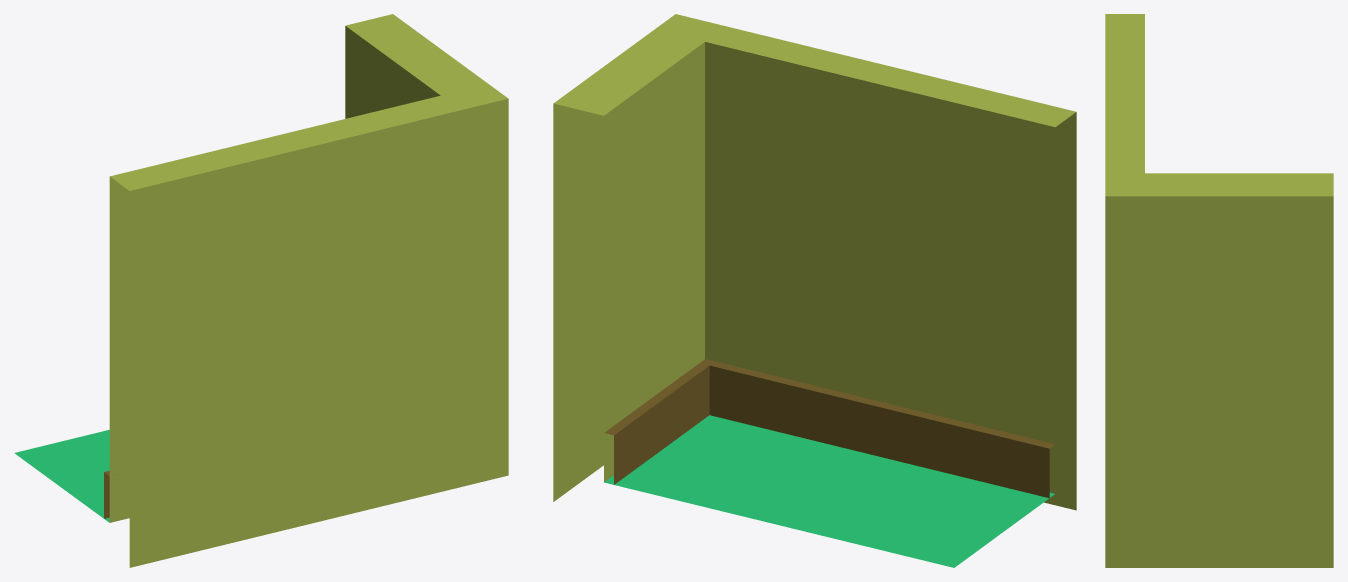
File: ModuleSC_Terr_corn_2.FBX
The picture shows the model from 3 angles, left to right: view 1: azimuth 30°, elevation 25°; view 2: azimuth 150°, elevation 25°; view 3: azimuth 270°, elevation 25°; orthographic projection. The views are drawn at different scales.
Parts seen in each view (by area): view 1: ModuleSC_Terr_wall_01, ModuleSC_Terr_floo_04; view 2: ModuleSC_Terr_wall_01, ModuleSC_Terr_floo_04, ModuleSC_Terr_skboard_01; view 3: ModuleSC_Terr_wall_01.
Part boxes in pixels (x1,y1,x2,y2): ModuleSC_Terr_wall_01: (109, 14, 508, 567); ModuleSC_Terr_floo_04: (14, 430, 109, 522); ModuleSC_Terr_wall_01: (553, 14, 1076, 510); ModuleSC_Terr_floo_04: (604, 415, 1054, 567); ModuleSC_Terr_skboard_01: (604, 359, 1055, 498); ModuleSC_Terr_wall_01: (1105, 14, 1333, 567).
Size of the model in its own units: 49.39 by 42.81 by 23.81.
